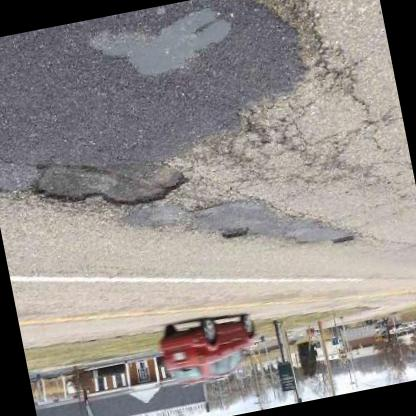pothole: (24, 134, 193, 226), (221, 223, 252, 244), (331, 232, 358, 249)
